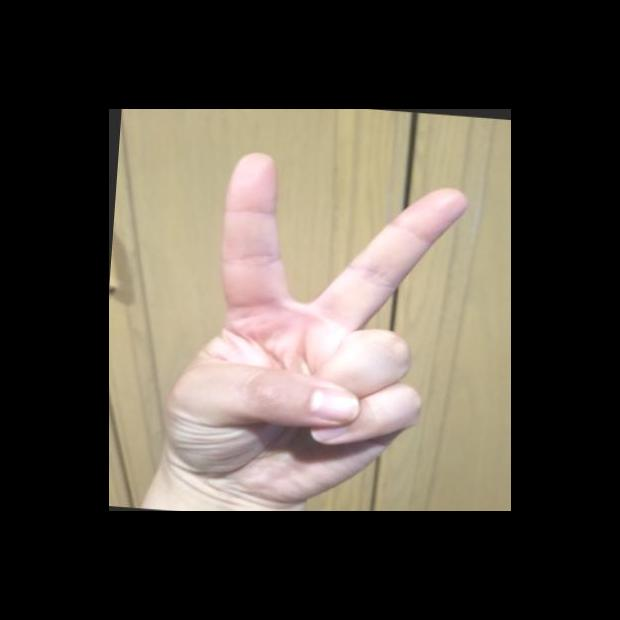U: (147, 140, 484, 510)
